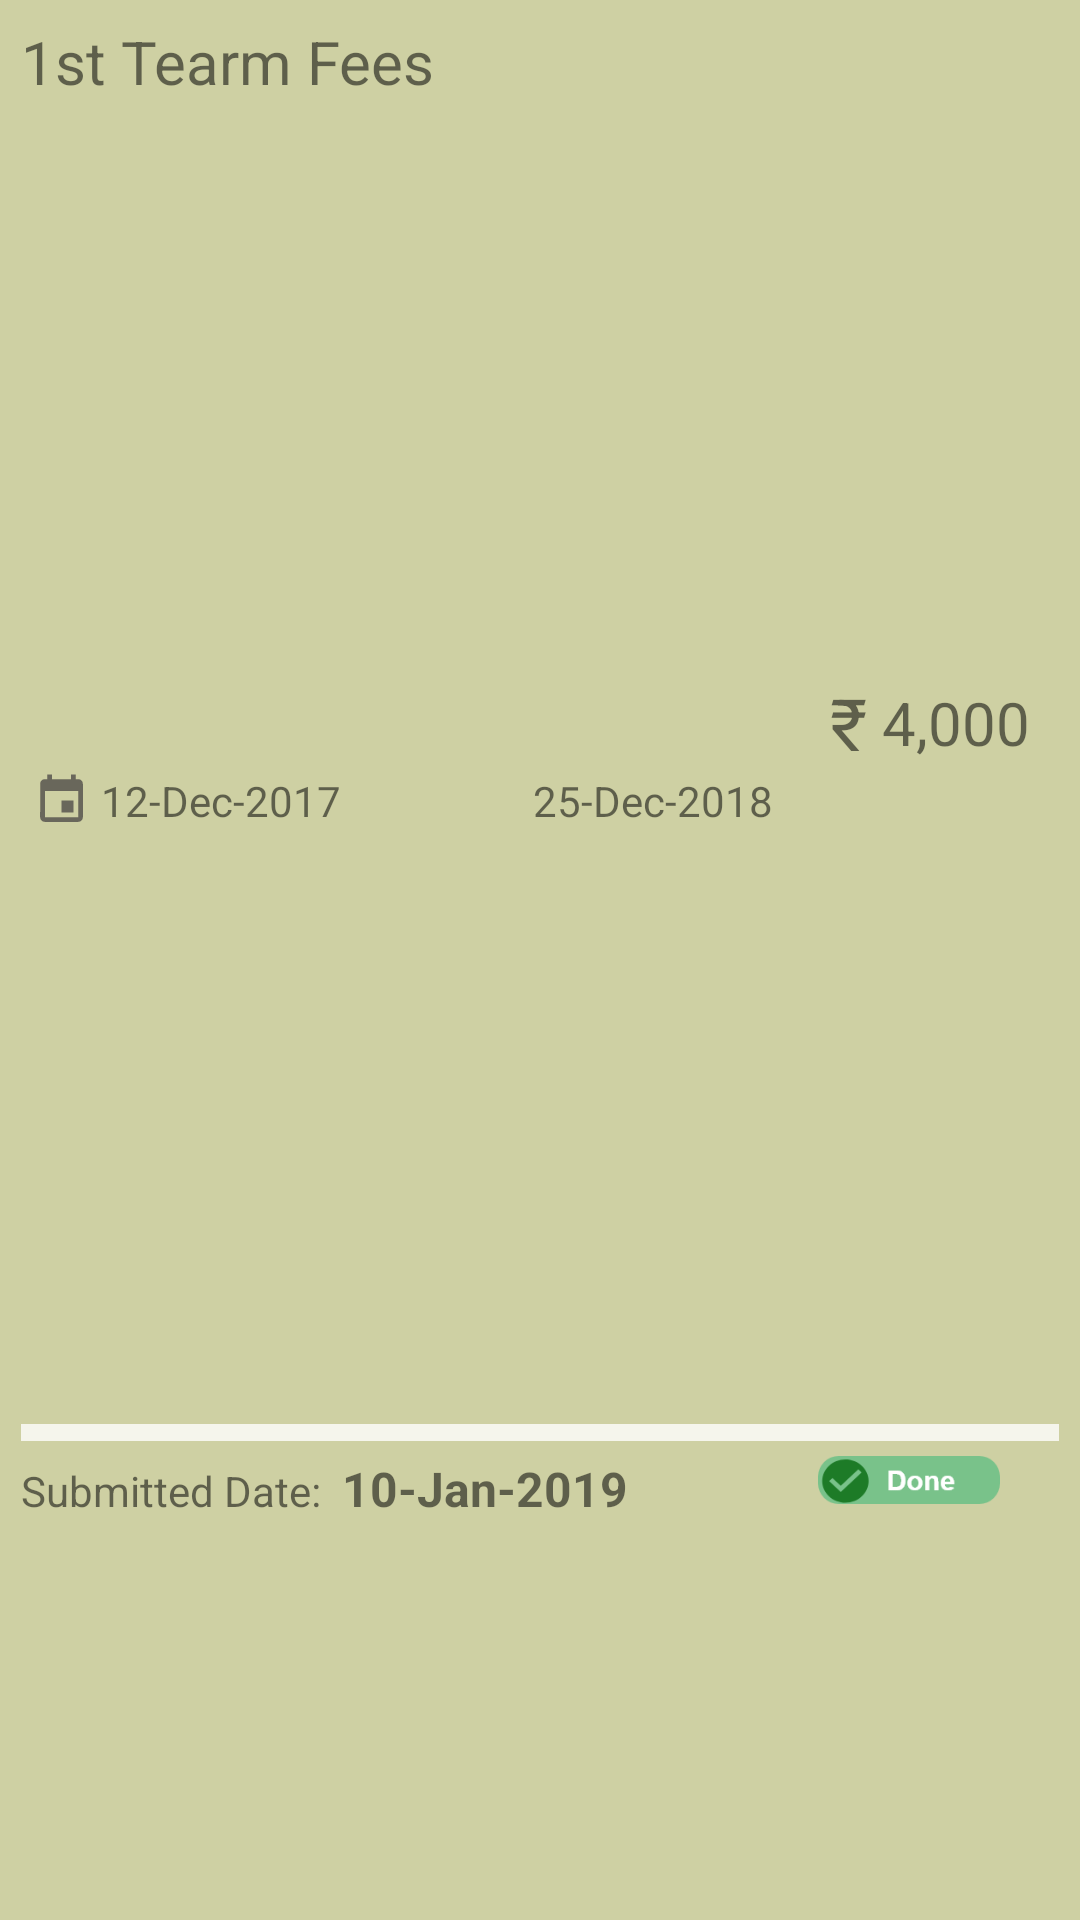

Icon bounding boxes for this 1080px×1920px phone screenshot, format (x1, y1, x2, y2):
date: (40, 774, 83, 822)
